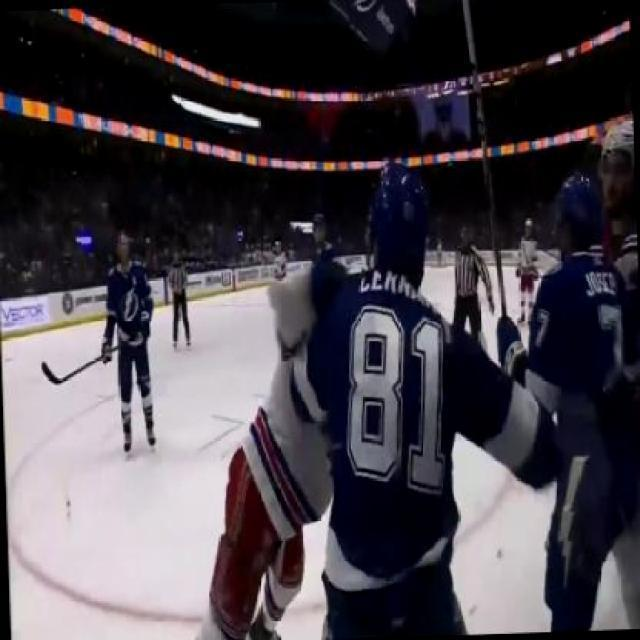fight: (205, 158, 564, 638)
non-fight: (94, 225, 162, 450), (513, 205, 539, 326), (166, 245, 194, 353)
